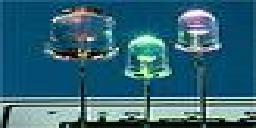LED: (47, 7, 116, 118), (174, 7, 226, 63), (123, 34, 175, 88)
